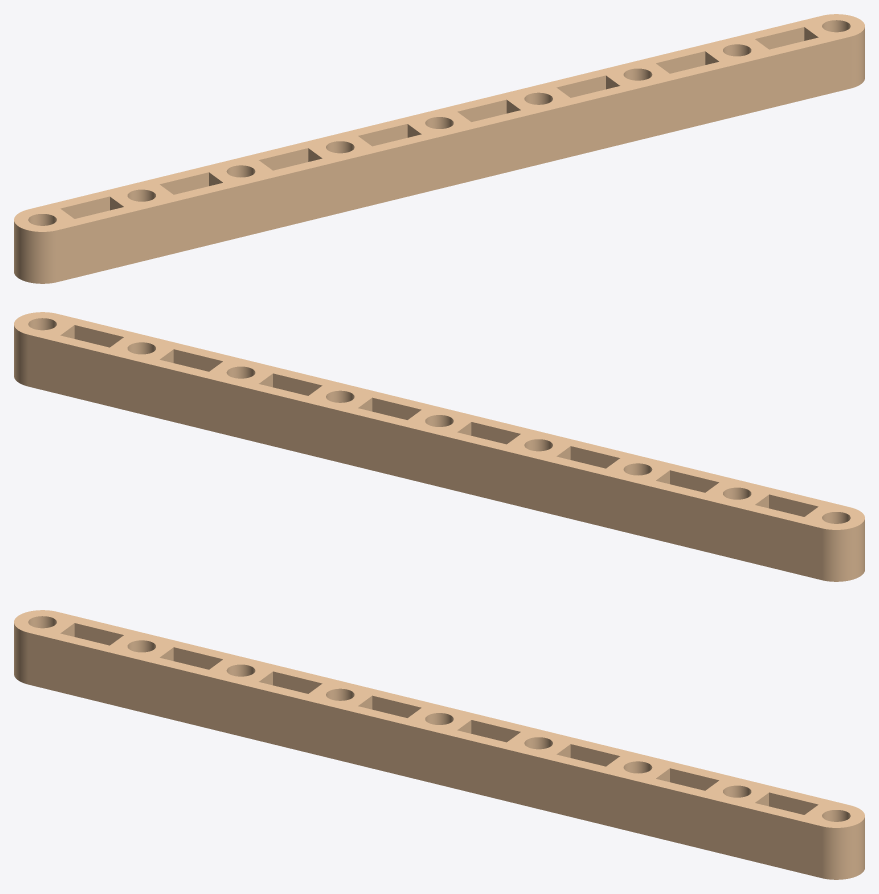
File: 8M Module.glb
3 views of the same model, one above another, from view 1: azimuth 30°, elevation 25°; view 2: azimuth 150°, elevation 25°; view 3: azimuth 330°, elevation 25° (orthographic).
Visible parts, largest first — view 1: 8M Module.ipt; view 2: 8M Module.ipt; view 3: 8M Module.ipt.
Part boxes in pixels (x1,y1,x2,y2): 8M Module.ipt: [14, 14, 864, 283]; 8M Module.ipt: [14, 312, 864, 581]; 8M Module.ipt: [14, 610, 864, 879].
Bounding box in the file's own units: 0.2159 × 0.0127 × 0.0127.
